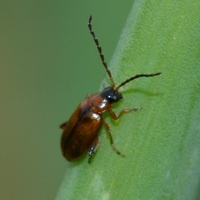insect: (60, 15, 160, 160)
